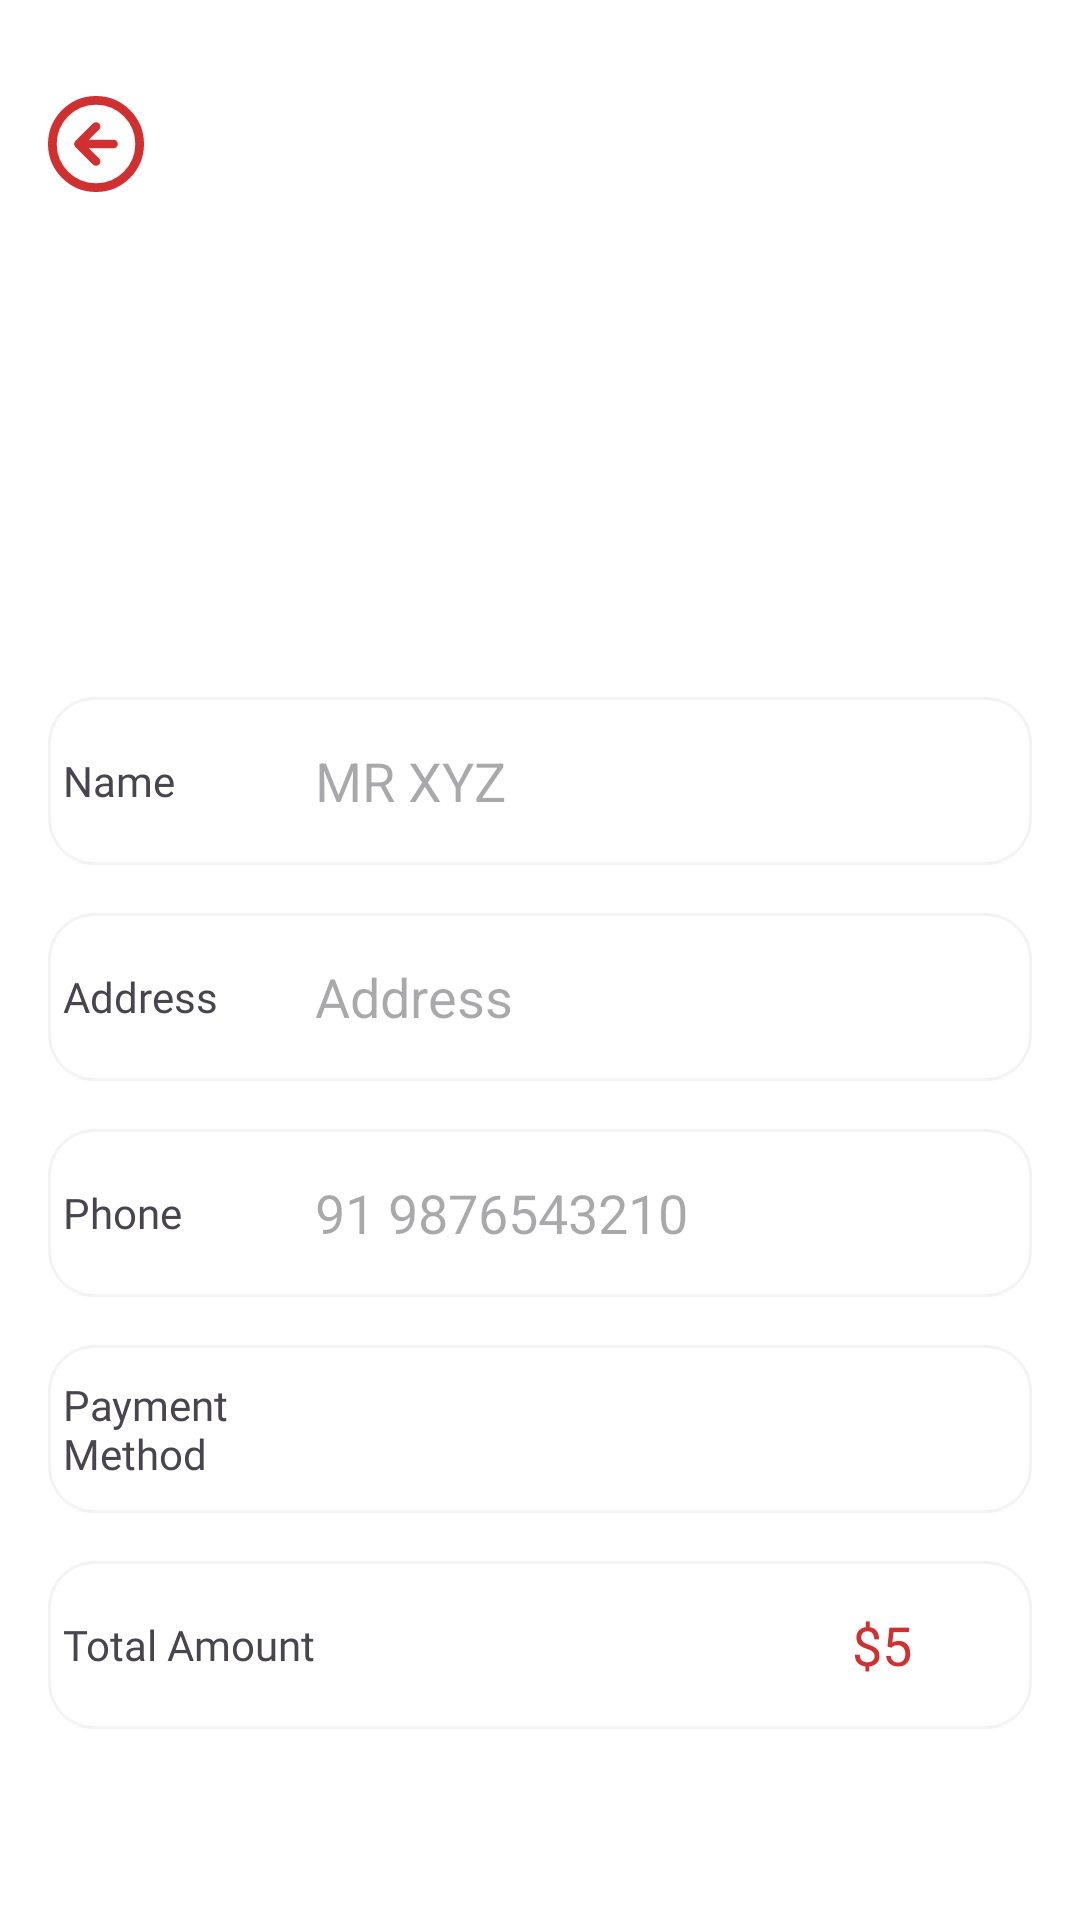

Icons on this 1080*1920 Android screen, each with the point to tap as (x=x, y=y):
arrow left: (x=96, y=144)
